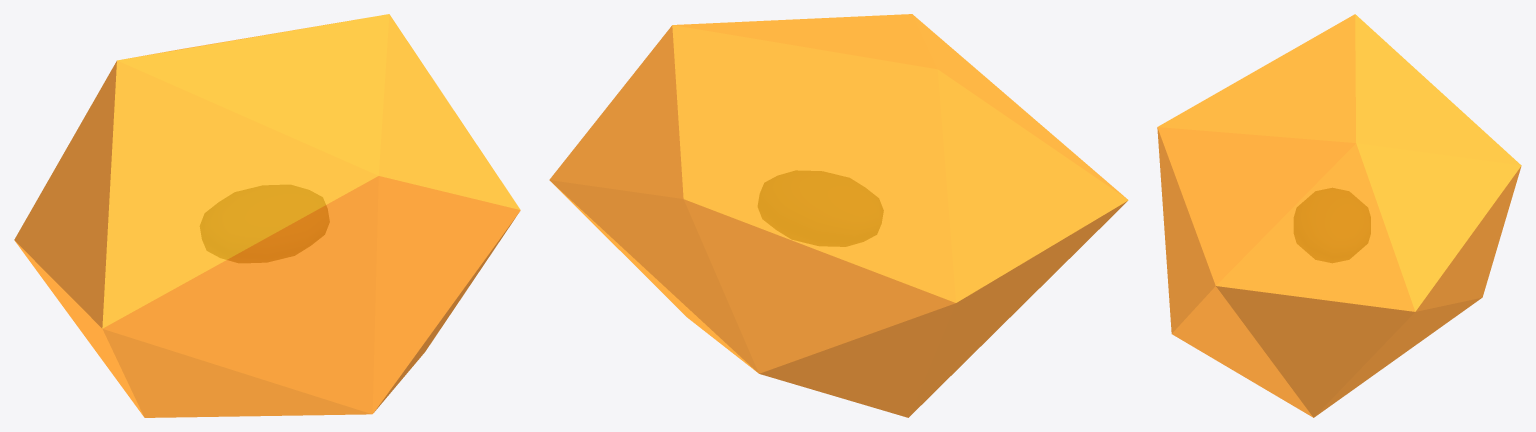
File: ambar.glb
The picture shows the model from 3 angles, left to right: view 1: azimuth 30°, elevation 25°; view 2: azimuth 150°, elevation 25°; view 3: azimuth 270°, elevation 25°; orthographic projection. The views are drawn at different scales.
Visible parts, largest first — view 1: ambar; view 2: ambar; view 3: ambar.
Boxes of the visible parts, x1,y1,x2,y2 form: ambar: (14,14,520,417); ambar: (549,14,1128,417); ambar: (1157,14,1521,417).
Bounding box in the file's own units: 0.2242 × 0.1665 × 0.1791.
